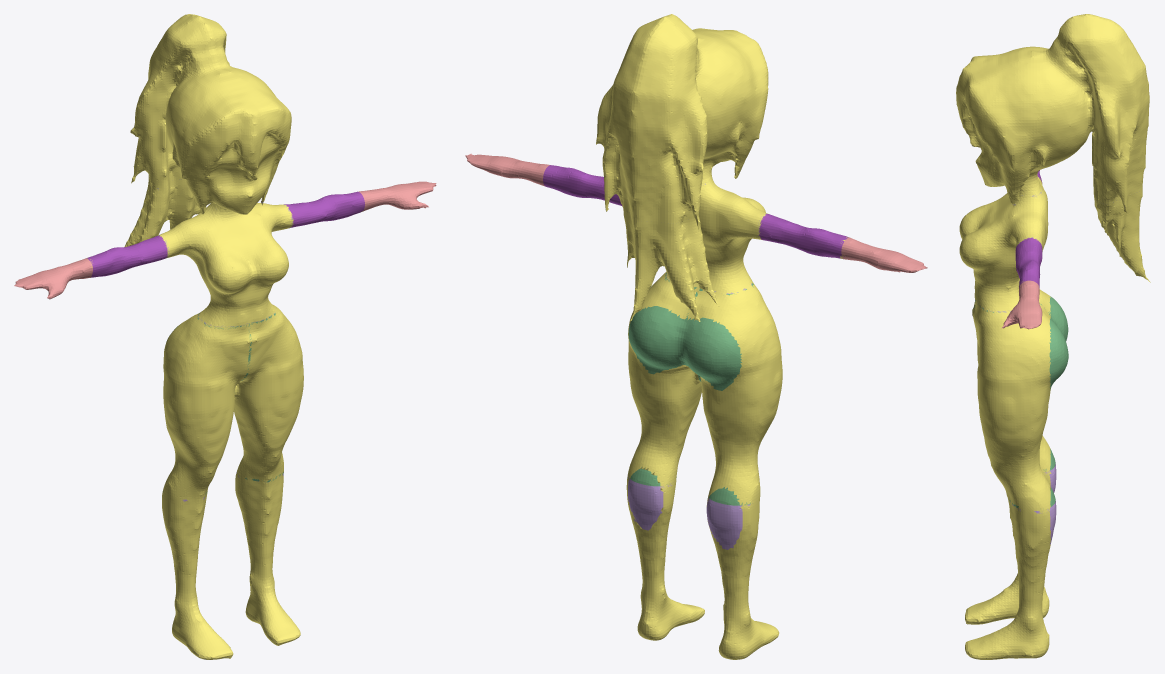
File: jace0_godmode_perfect_neck_v2.glb
3 renders of one model, left to right at view 1: azimuth 30°, elevation 25°; view 2: azimuth 150°, elevation 25°; view 3: azimuth 270°, elevation 25°, orthographic. The views are drawn at different scales.
Parts seen in each view (by area): view 1: Part_HEAD_HAIR, Part_ARM_UPPER_L, Part_ARM_UPPER_R, Part_ARM_LOWER_L, Part_ARM_LOWER_R; view 2: Part_HEAD_HAIR, Part_LEG_UPPER_L, Part_LEG_UPPER_R, Part_ARM_UPPER_L, Part_ARM_UPPER_R, Part_ARM_LOWER_L, Part_ARM_LOWER_R, Part_LEG_LOWER_L, Part_LEG_LOWER_R; view 3: Part_HEAD_HAIR, Part_ARM_LOWER_R, Part_ARM_UPPER_R, Part_LEG_UPPER_R, Part_LEG_UPPER_L.
Part boxes in pixels (bbox=[...]): Part_HEAD_HAIR: bbox=[86, 14, 362, 659]; Part_ARM_UPPER_L: bbox=[86, 235, 167, 277]; Part_ARM_UPPER_R: bbox=[284, 191, 364, 227]; Part_ARM_LOWER_L: bbox=[14, 258, 92, 299]; Part_ARM_LOWER_R: bbox=[358, 181, 436, 211]; Part_HEAD_HAIR: bbox=[596, 14, 848, 659]; Part_LEG_UPPER_L: bbox=[681, 283, 753, 505]; Part_LEG_UPPER_R: bbox=[628, 273, 701, 486]; Part_ARM_UPPER_L: bbox=[759, 214, 849, 259]; Part_ARM_UPPER_R: bbox=[543, 165, 621, 205]; Part_ARM_LOWER_L: bbox=[841, 237, 927, 272]; Part_ARM_LOWER_R: bbox=[465, 153, 549, 186]; Part_LEG_LOWER_L: bbox=[706, 497, 750, 549]; Part_LEG_LOWER_R: bbox=[628, 477, 671, 530]; Part_HEAD_HAIR: bbox=[956, 14, 1150, 659]; Part_ARM_LOWER_R: bbox=[1001, 280, 1042, 329]; Part_ARM_UPPER_R: bbox=[1015, 238, 1042, 287]; Part_LEG_UPPER_R: bbox=[974, 300, 1068, 508]; Part_LEG_UPPER_L: bbox=[973, 296, 1068, 471].
Bounding box in the file's own units: 1.46 × 1.96 × 0.5555.
